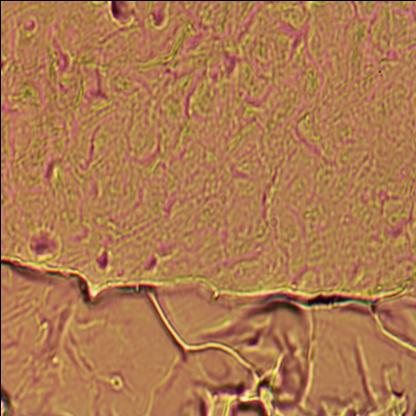Stage II: (0, 0, 416, 322)
